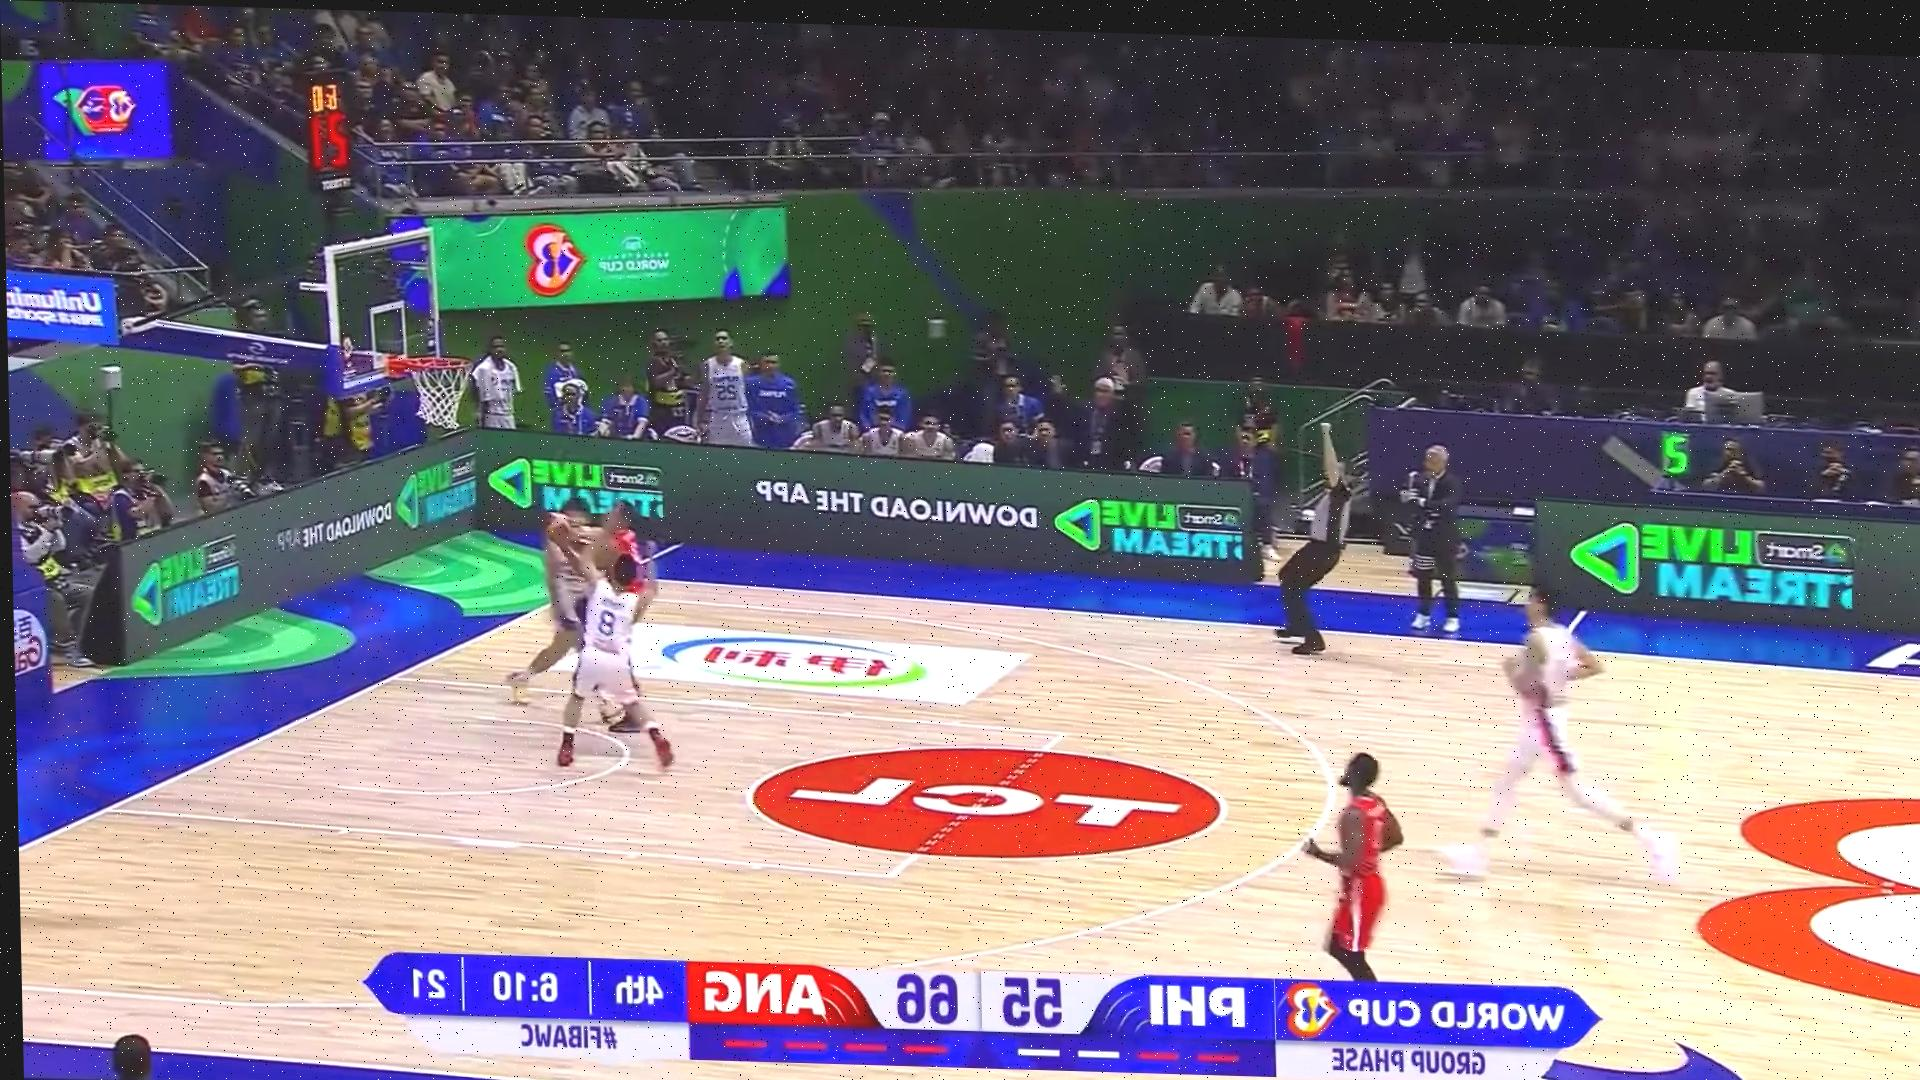foul: (469, 477, 705, 773)
